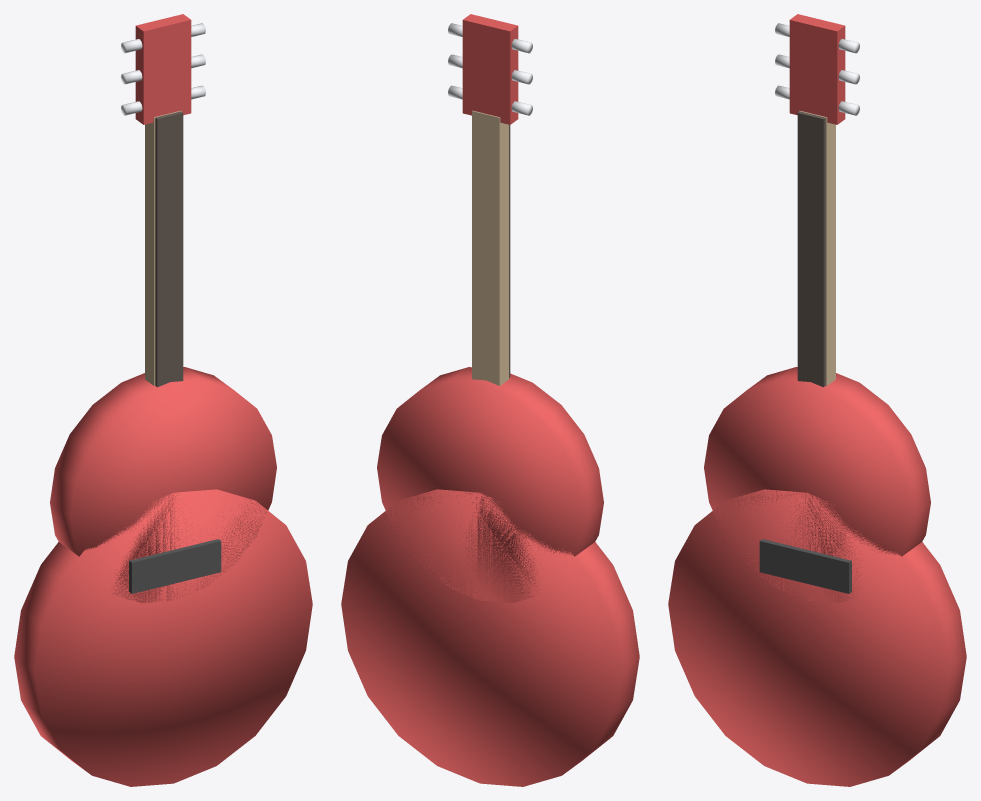
3 views of the same model, side by side, from view 1: azimuth 30°, elevation 25°; view 2: azimuth 150°, elevation 25°; view 3: azimuth 330°, elevation 25° (orthographic).
Parts seen in each view (by area): view 1: Generated3DMesh; view 2: Generated3DMesh; view 3: Generated3DMesh.
Boxes of the visible parts, x1,y1,x2,y2 form: Generated3DMesh: [14, 14, 312, 786]; Generated3DMesh: [341, 14, 639, 786]; Generated3DMesh: [668, 14, 966, 786].
Bounding box in the file's own units: 1.4 × 3.63 × 0.205.
